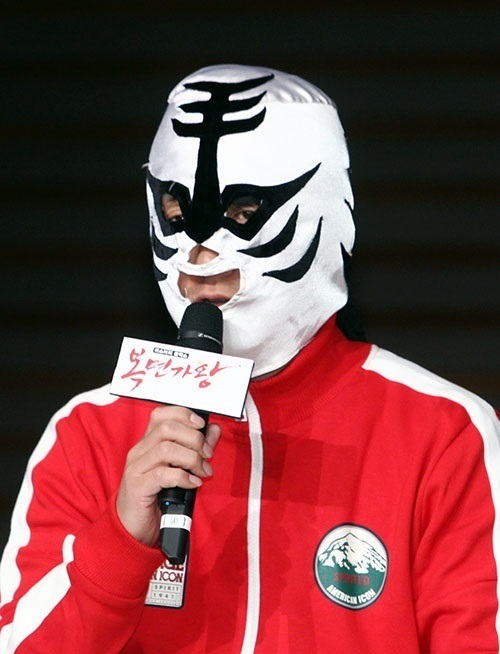face: (160, 136, 296, 344)
